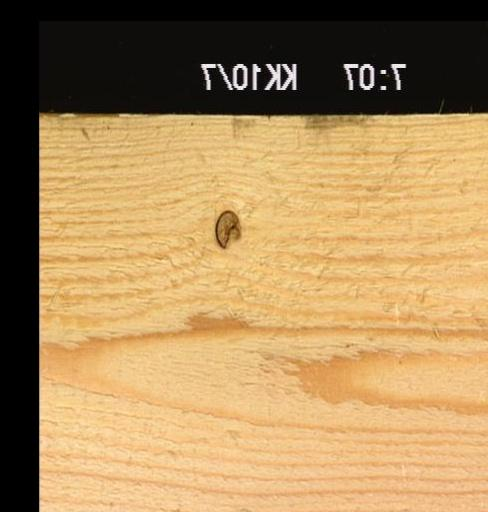dry_knot: (212, 207, 241, 249)
